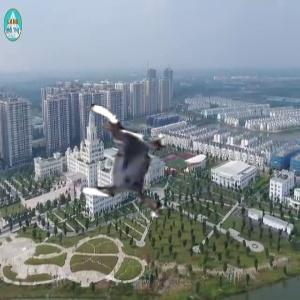drone: (69, 104, 186, 221)
